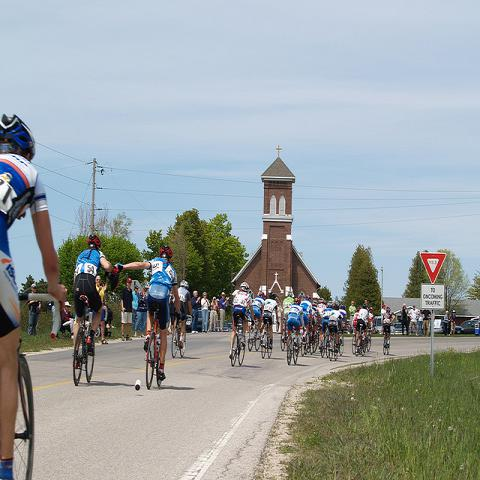car: (185, 310, 233, 332), (374, 316, 396, 335), (459, 320, 478, 334), (394, 322, 406, 334), (456, 323, 466, 335)
